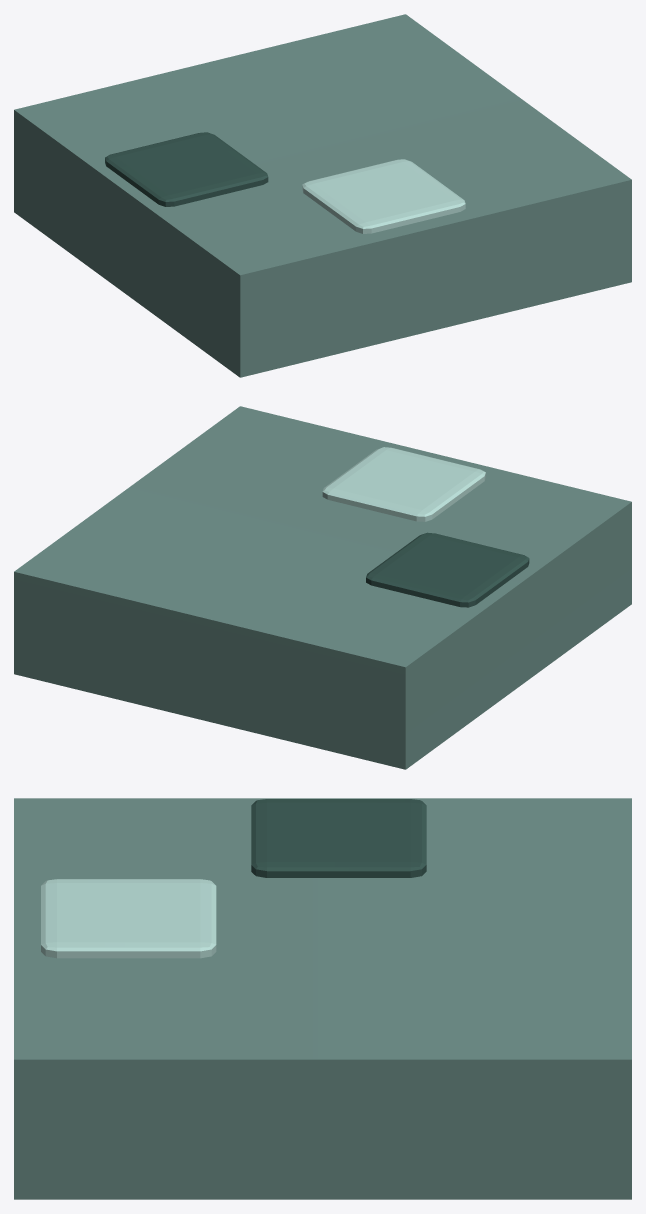
The model's file is floor-t1.fbx.
3 views of the same model, one above another, from view 1: azimuth 30°, elevation 25°; view 2: azimuth 150°, elevation 25°; view 3: azimuth 270°, elevation 25° (orthographic). The views are drawn at different scales.
Visible parts, largest first — view 1: floor_t1; view 2: floor_t1; view 3: floor_t1.
Boxes of the visible parts, left/top/right/bottom form: floor_t1: left=14, top=14, right=631, bottom=377; floor_t1: left=14, top=406, right=631, bottom=769; floor_t1: left=14, top=798, right=631, bottom=1199.
Size of the model in its own units: 400 by 107 by 400.
